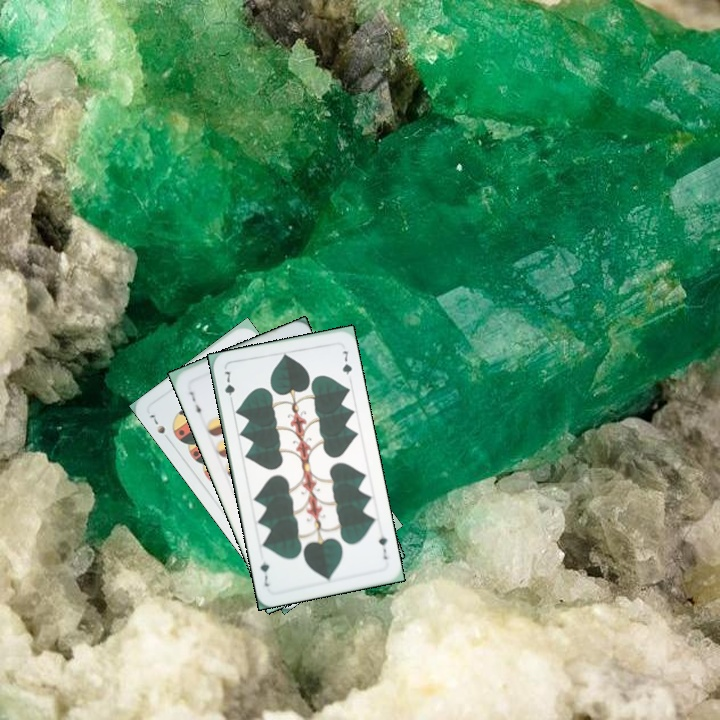E7: (185, 387, 204, 420)
G7: (220, 367, 237, 406), (375, 532, 390, 562)
S7: (145, 410, 168, 436)
